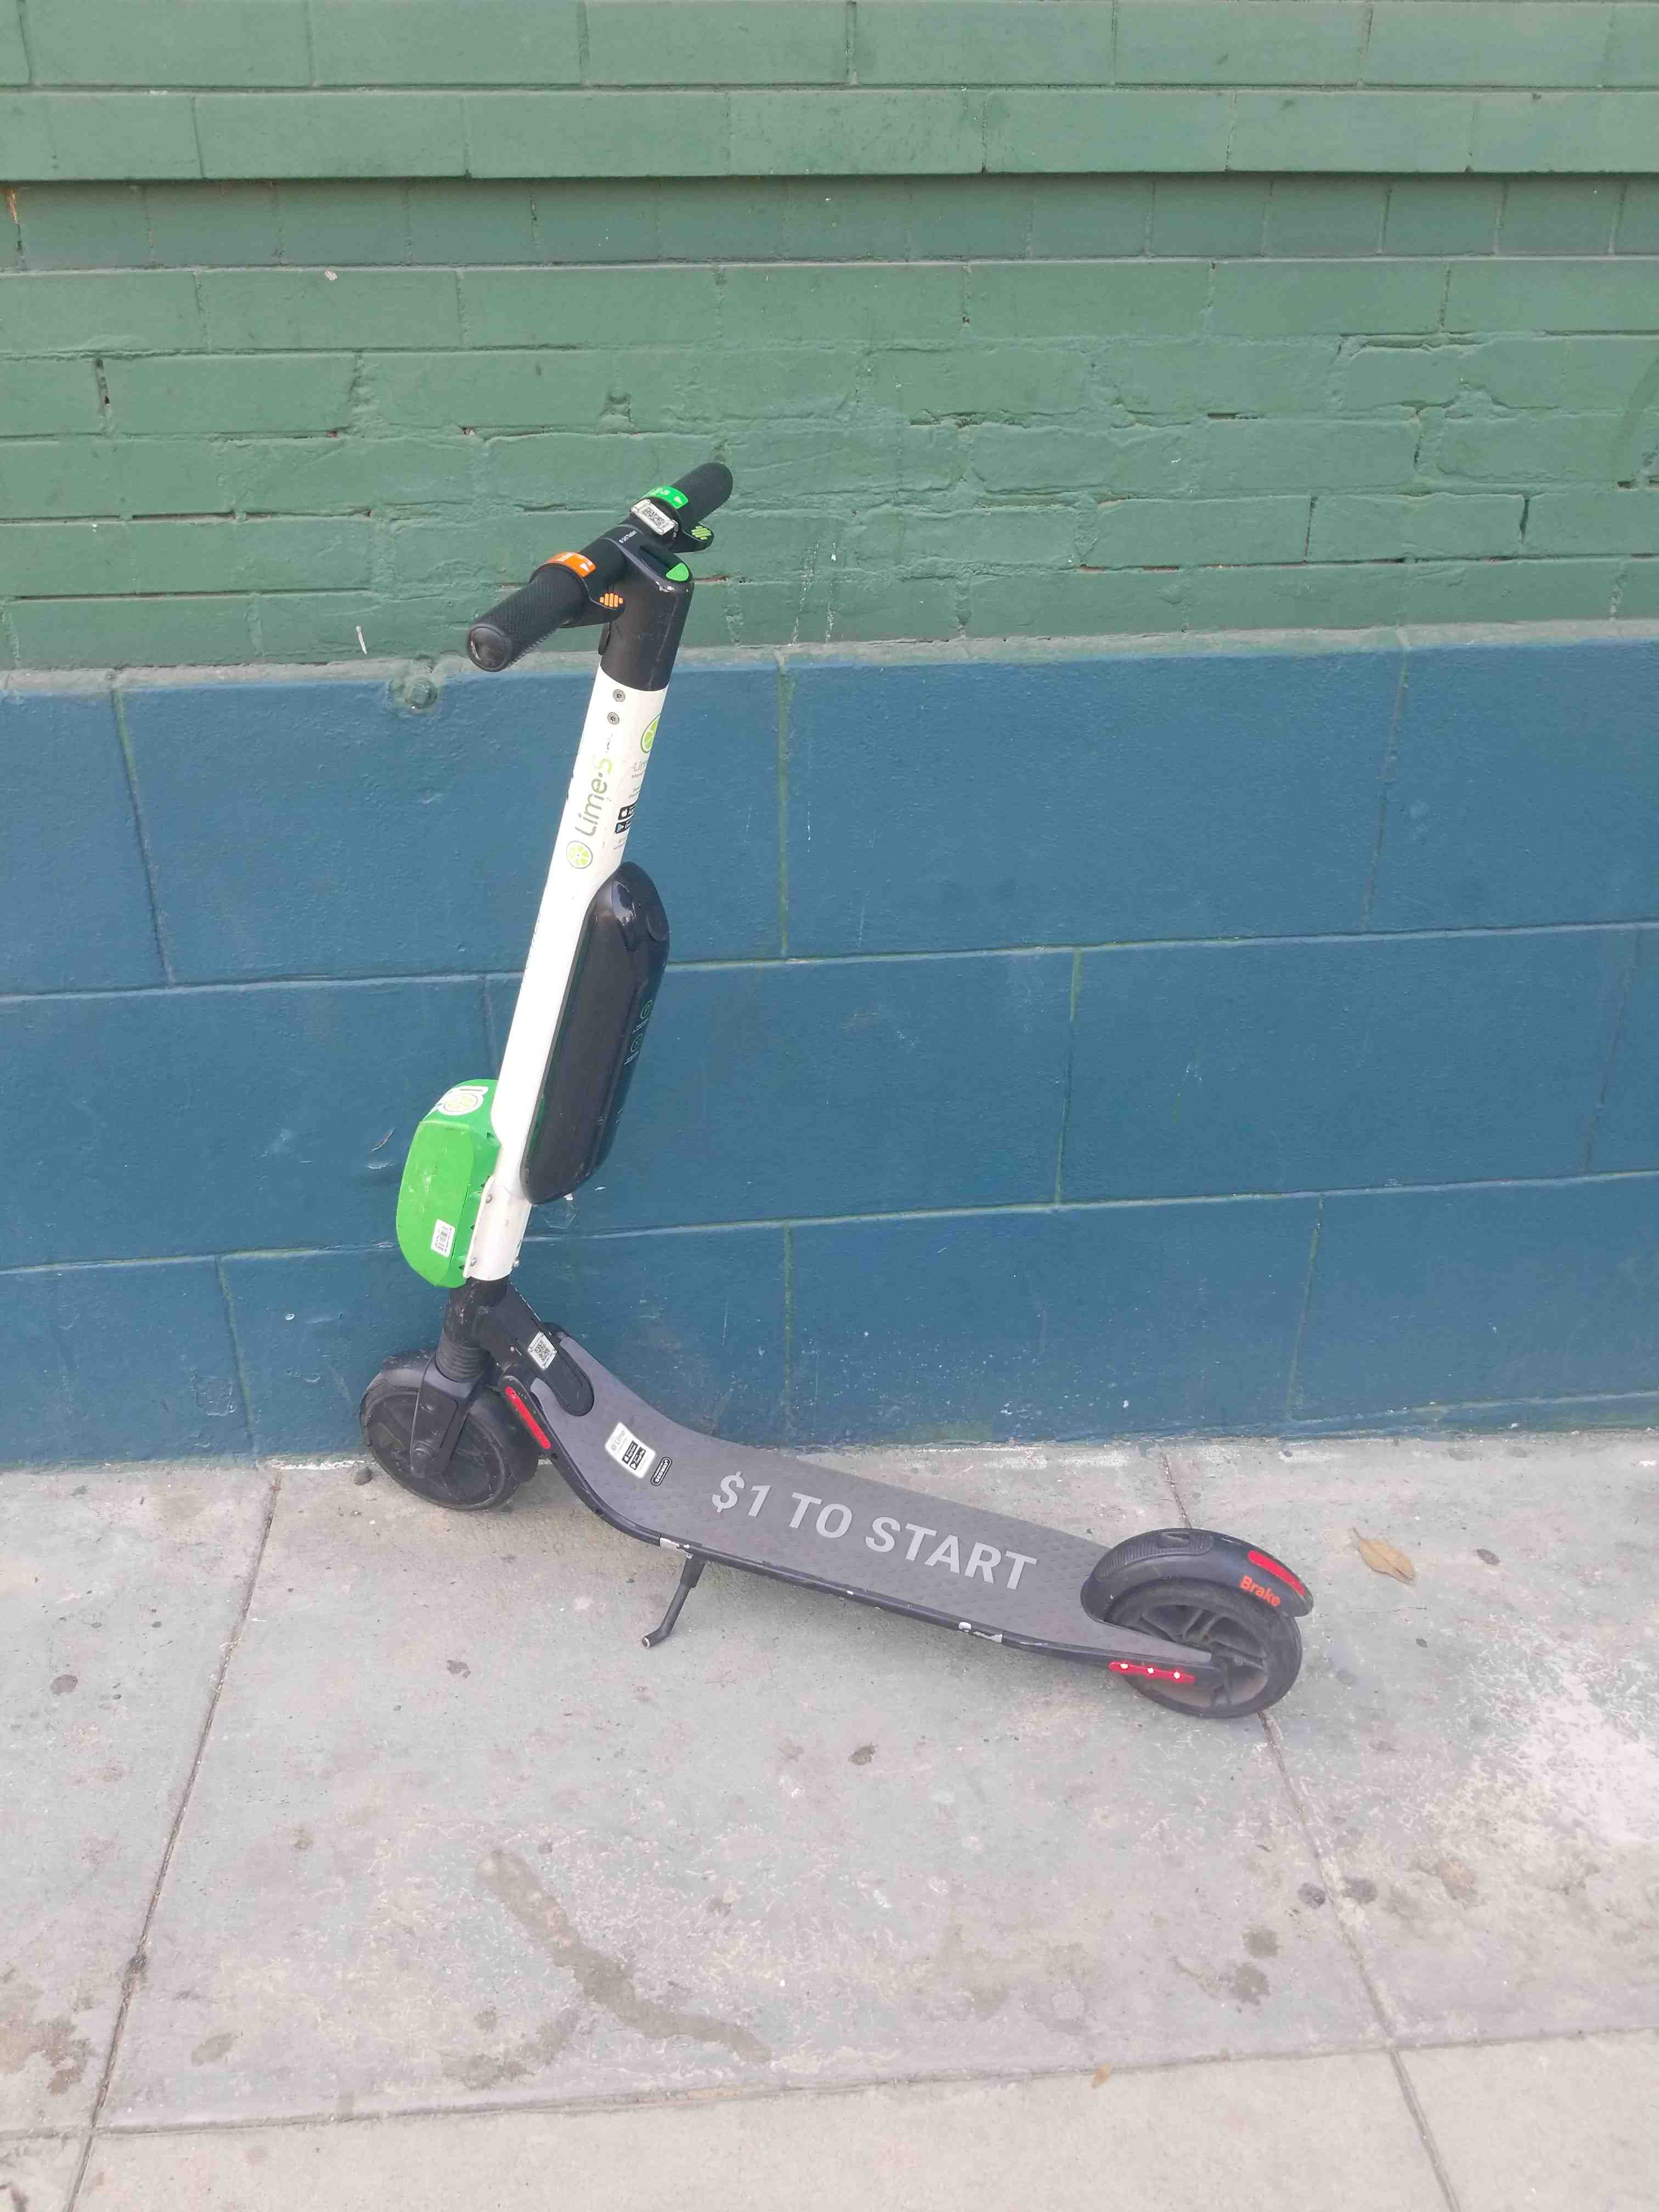scooter: (342, 434, 1330, 1730)
